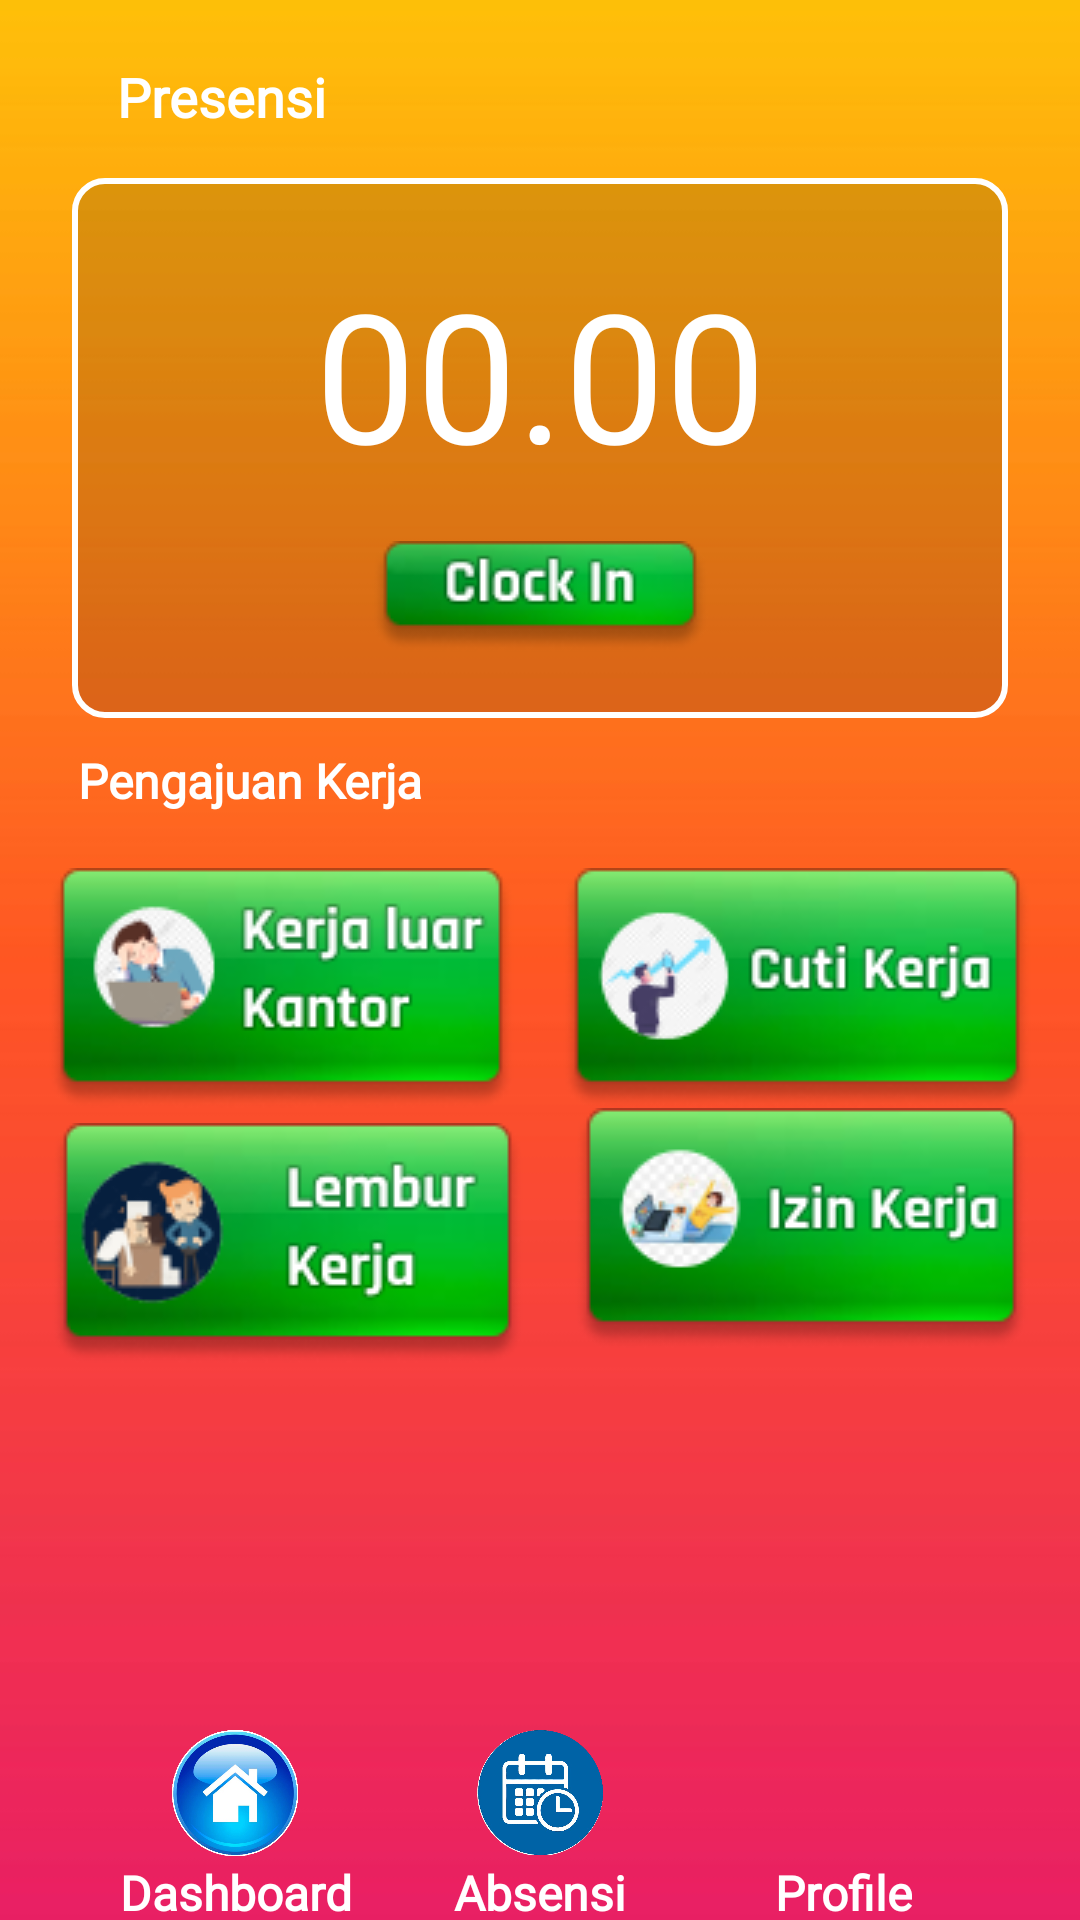

Named icons in this screenshot (1080px x 1920px) and their centers, point (x, y):
home: point (235, 1793)
